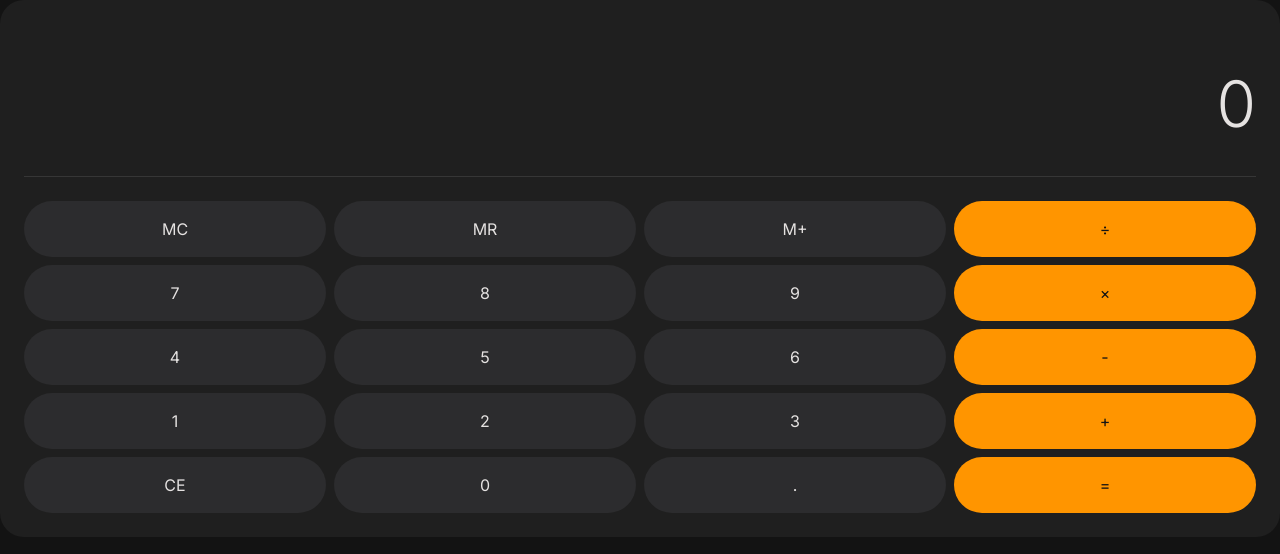
Test case: CalculatorSection › adds two numbers using the keypad
The width and height of the screenshot is (1280, 554).
Click the button with test id "key-2". click: (485, 421)
box: left=334, top=393, right=636, bottom=449
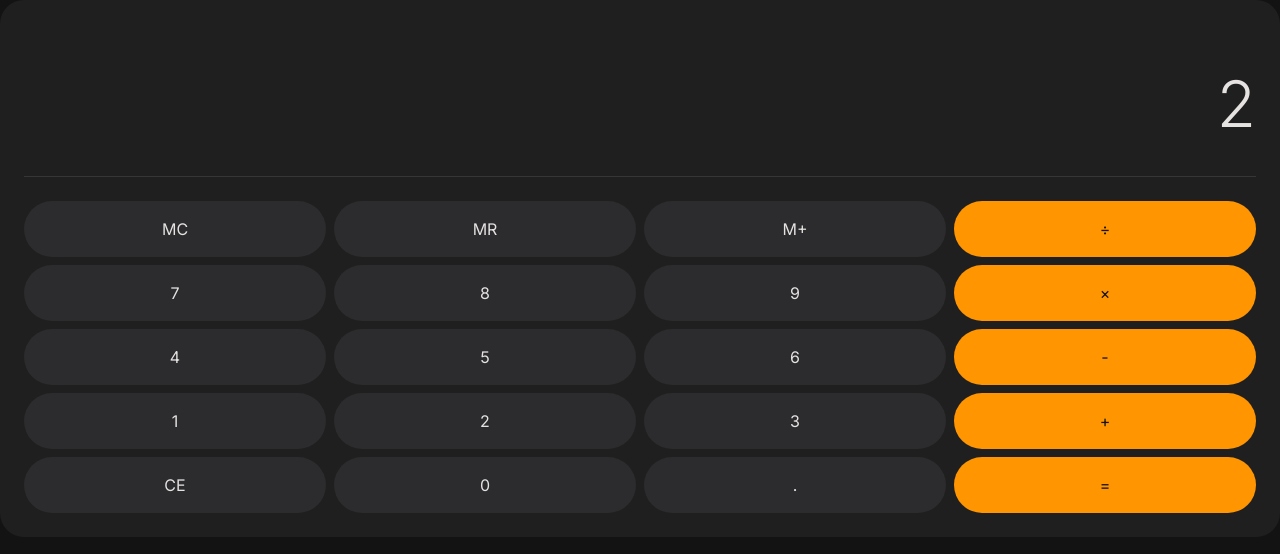
Click the button with test id "key-+". click: (1105, 421)
box: left=954, top=393, right=1256, bottom=449
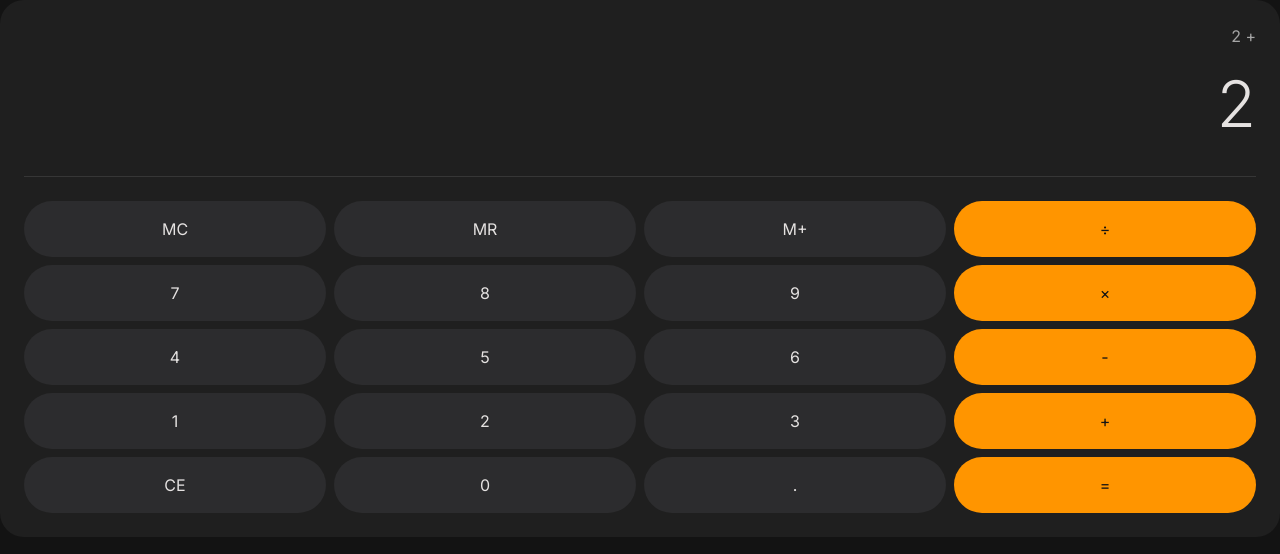
Click the button with test id "key-3". click: (795, 421)
box: left=644, top=393, right=946, bottom=449
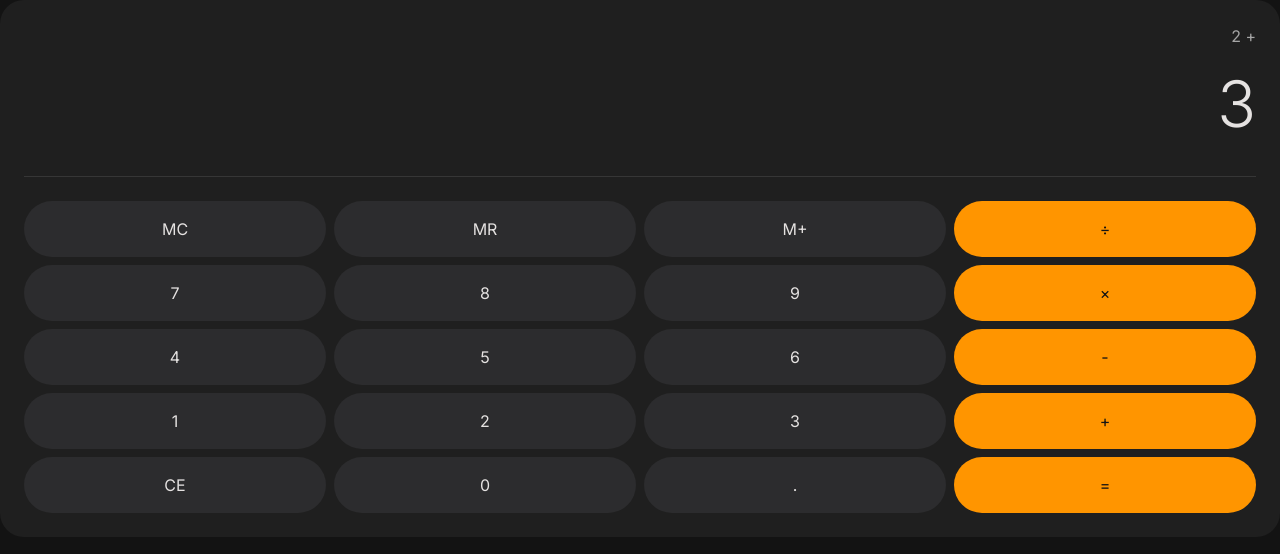
Click the button with test id "key-=". click: (1105, 485)
box: left=954, top=457, right=1256, bottom=513
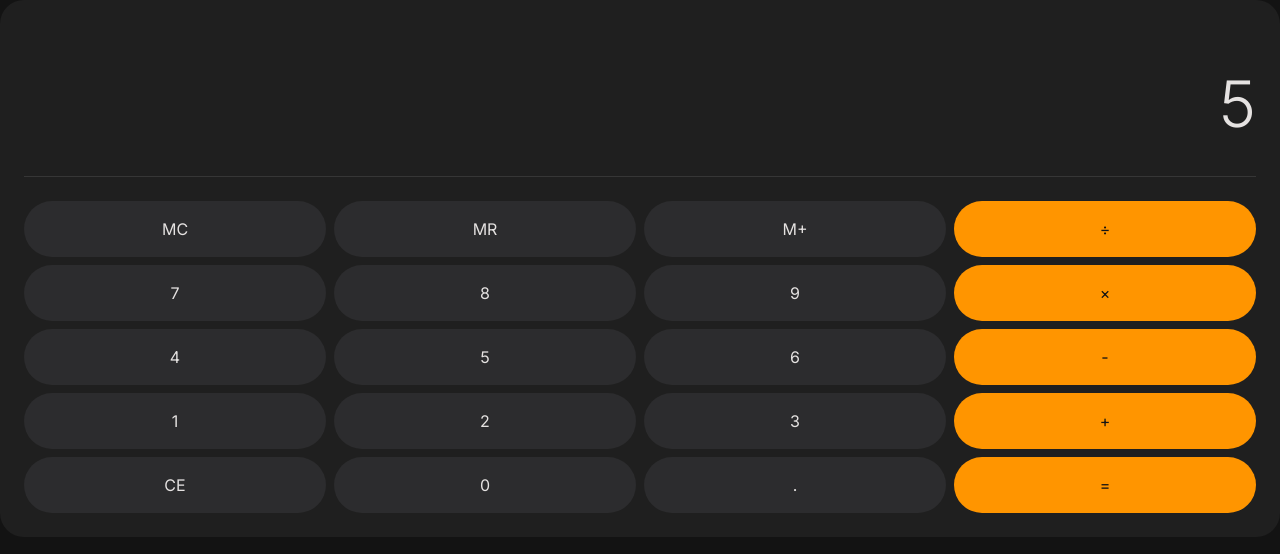
Expected: the text with test id "calculator-display" reads "5", left=1219, top=65, right=1256, bottom=142
